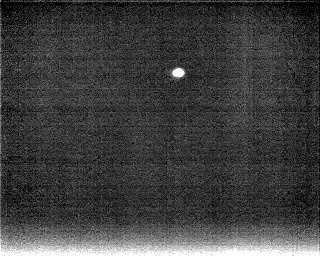AIRPLANE: (169, 64, 187, 81)
